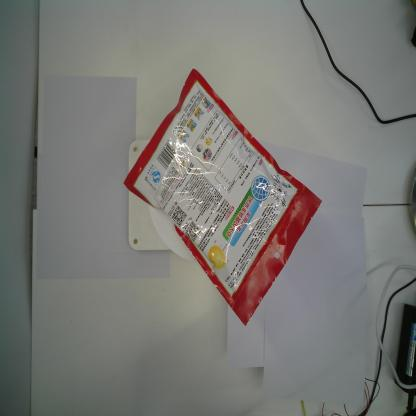Instant Drink: (122, 65, 324, 331)
